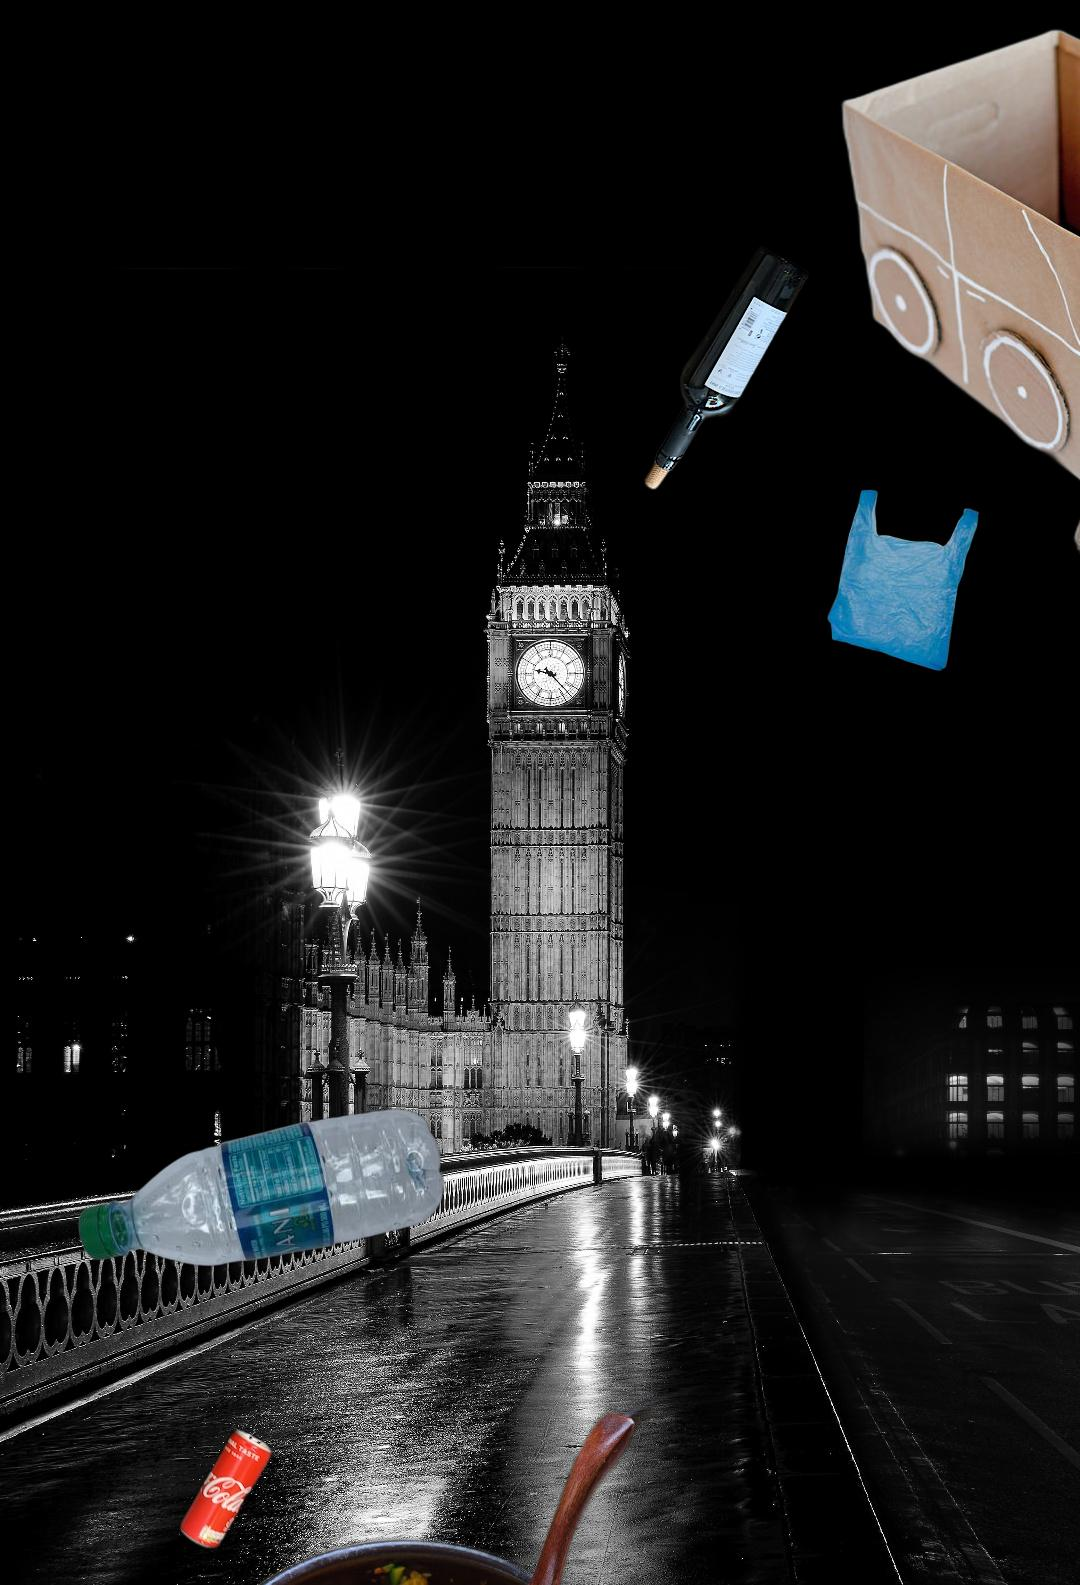biological: (163, 1384, 756, 1585), (892, 259, 1080, 373)
glass: (641, 238, 813, 496)
metal-cans: (176, 1422, 276, 1555)
plastic-bag: (826, 487, 982, 673)
plastic-bottles: (73, 1104, 449, 1269), (1070, 299, 1080, 611)
trashbox-cardboard: (836, 24, 1080, 500)
